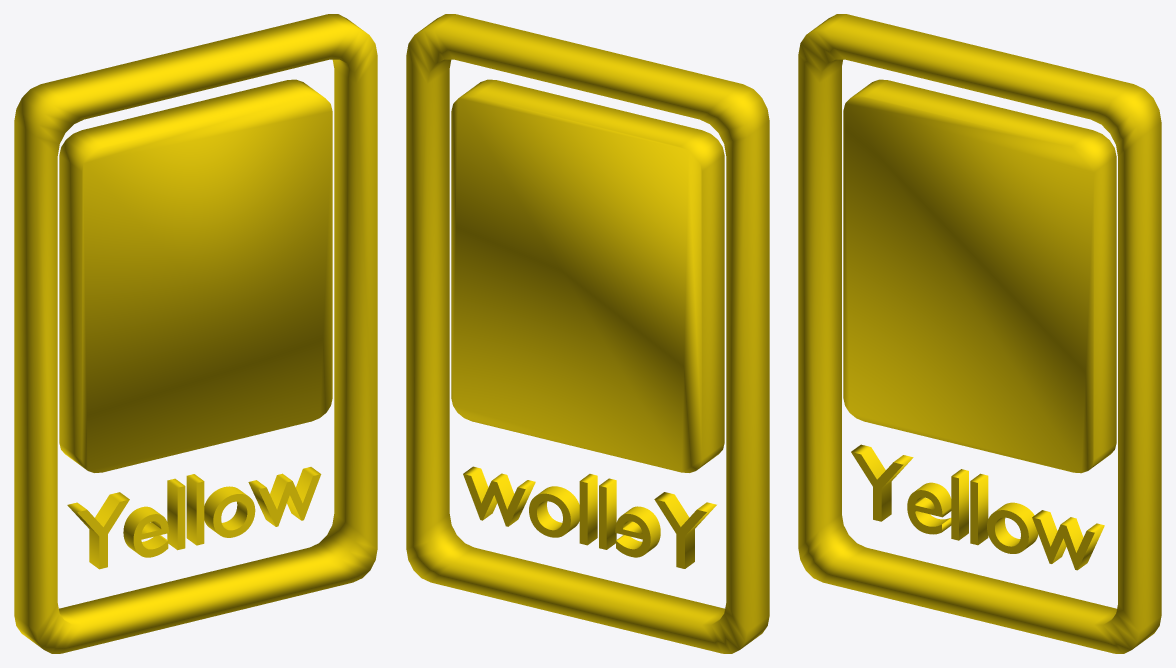
Rendered from Color_Yellow.gltf.
3 views of the same model, side by side, from view 1: azimuth 30°, elevation 25°; view 2: azimuth 150°, elevation 25°; view 3: azimuth 330°, elevation 25° (orthographic).
Parts seen in each view (by area): view 1: Text.005; view 2: Text.005; view 3: Text.005.
Part boxes in pixels (left/top/right/bottom): Text.005: left=14, top=14, right=377, bottom=653; Text.005: left=406, top=14, right=769, bottom=653; Text.005: left=798, top=14, right=1161, bottom=653.
Bounding box in the file's own units: 1 × 1.56 × 0.1143.
